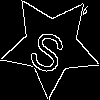S: (26, 20, 72, 76)
